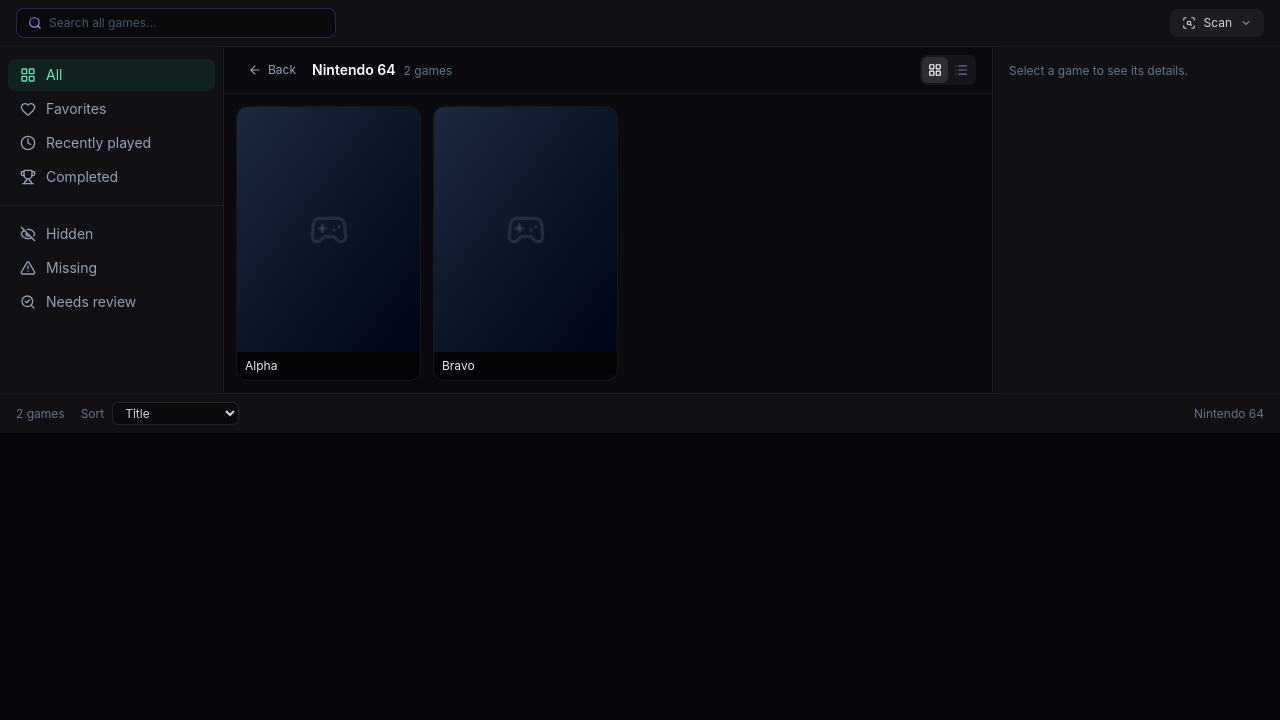
Test: Scrape… in the Library (FR-SCR-1, FR-SCR-5) › FR-SCR-5: details show the indexed box art (versioned URL) and the scrape status
Click the option "Alpha": (328, 244) [236, 106, 421, 381]
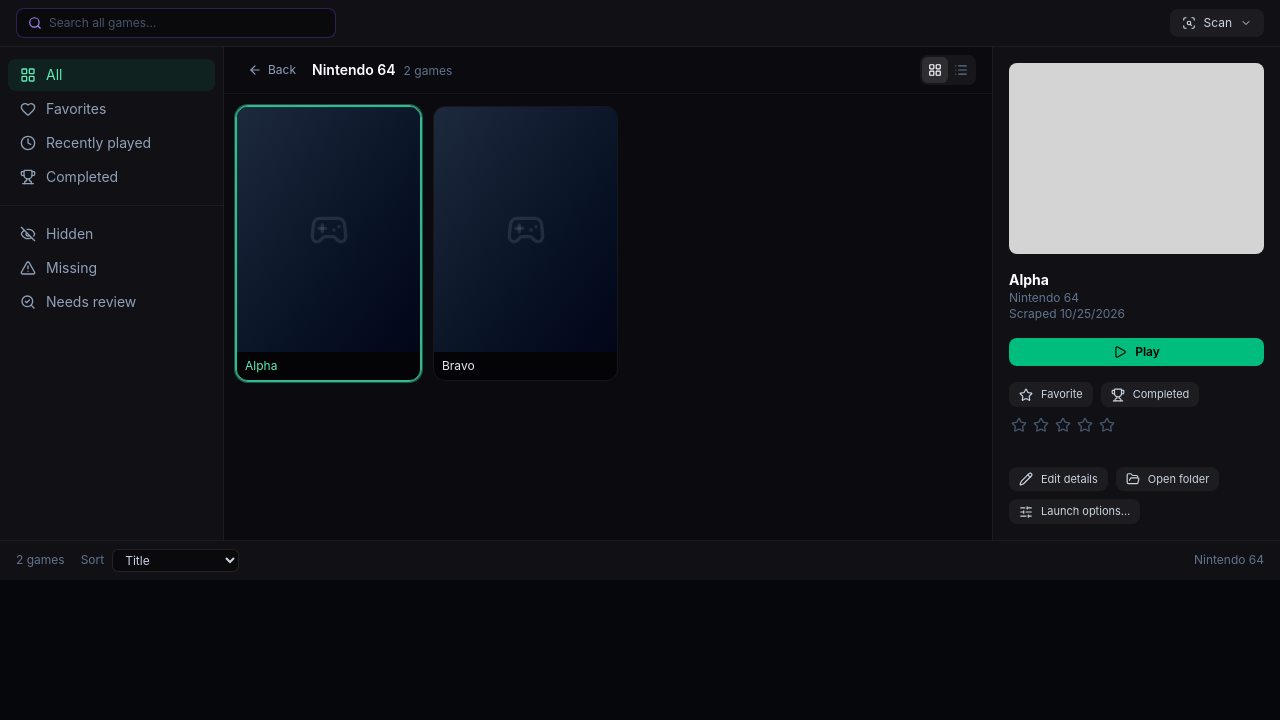
Check: the text "Scraped 10/25/2026" is shown, box [1009, 306, 1125, 321]
